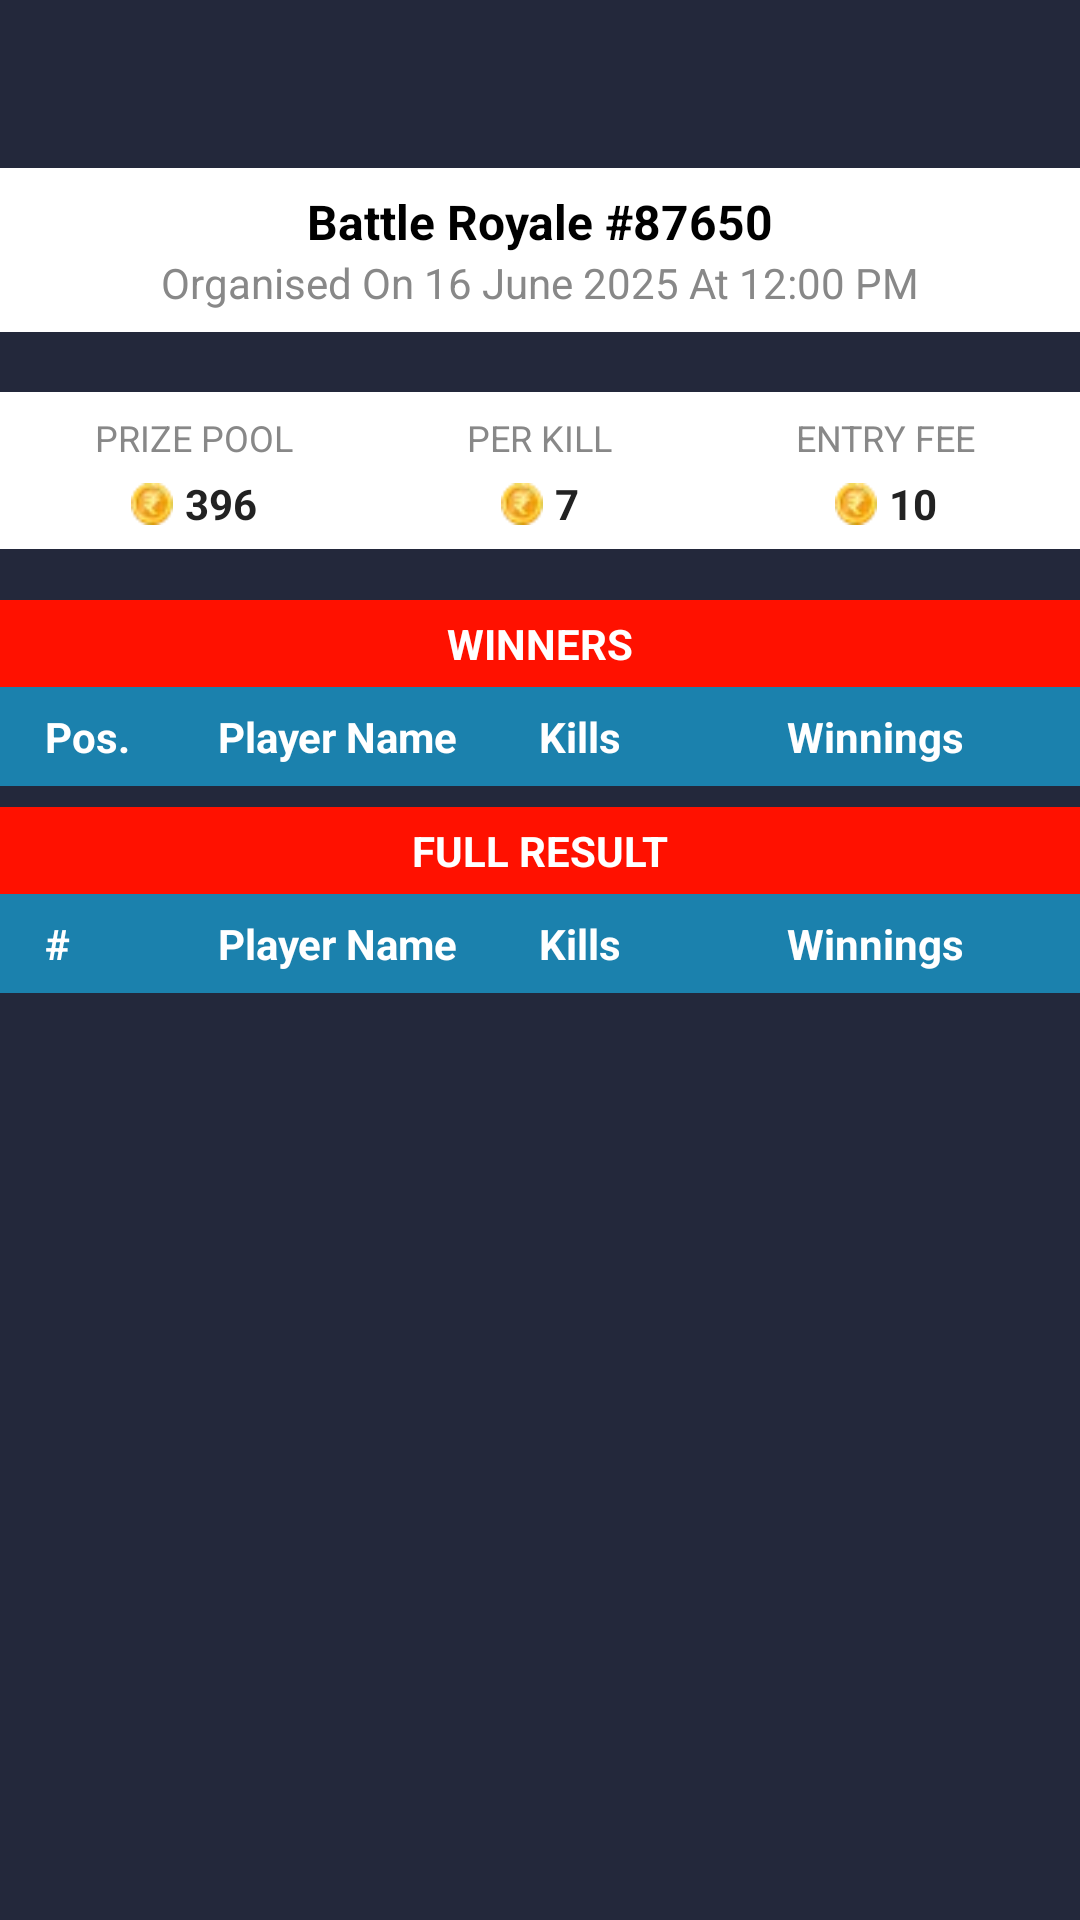

Icon bounding boxes for this 1080×1920 phone screenshot, format {"left": x1, "top": y1, "right": x2, "bottom": y2}:
rupee: {"left": 131, "top": 483, "right": 173, "bottom": 525}, {"left": 501, "top": 483, "right": 543, "bottom": 525}, {"left": 835, "top": 483, "right": 877, "bottom": 525}
